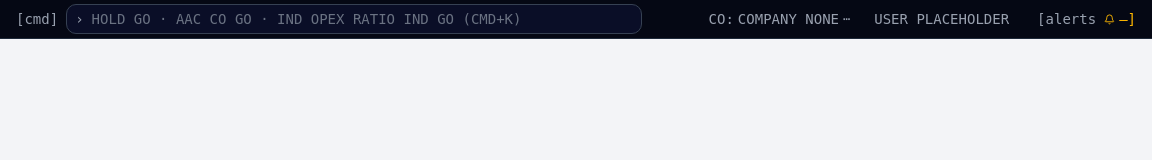
Scenario: CommandBar (Phase 7.D smoke) › IND no-cell partial: empty matrix → setFeedback err with partial msg
The image size is (1152, 160).
In the field with placeholder "HOLD GO · AAC CO GO · IND_OPEX_RATIO IND GO (Cmd+K)": coordinates (362, 19) [92, 9, 633, 29], type "IND_NONEXISTENT IND GO"
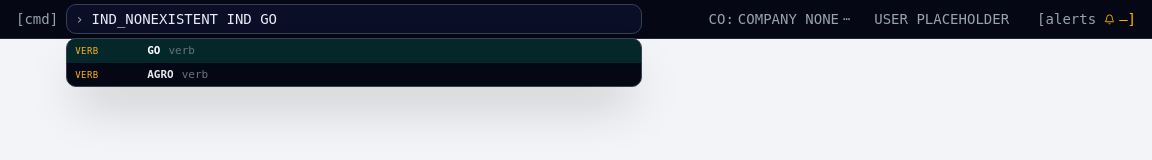
Submit the form, box [66, 4, 642, 34]
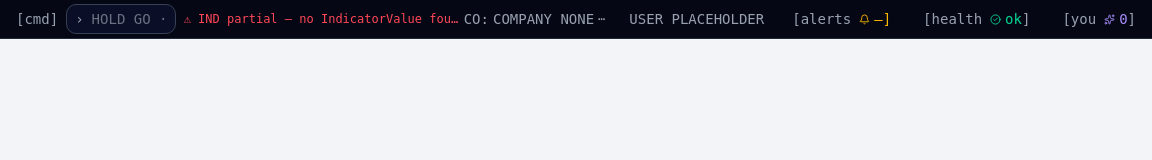
Check: the message shows "IND partial", box [198, 12, 1087, 26]
